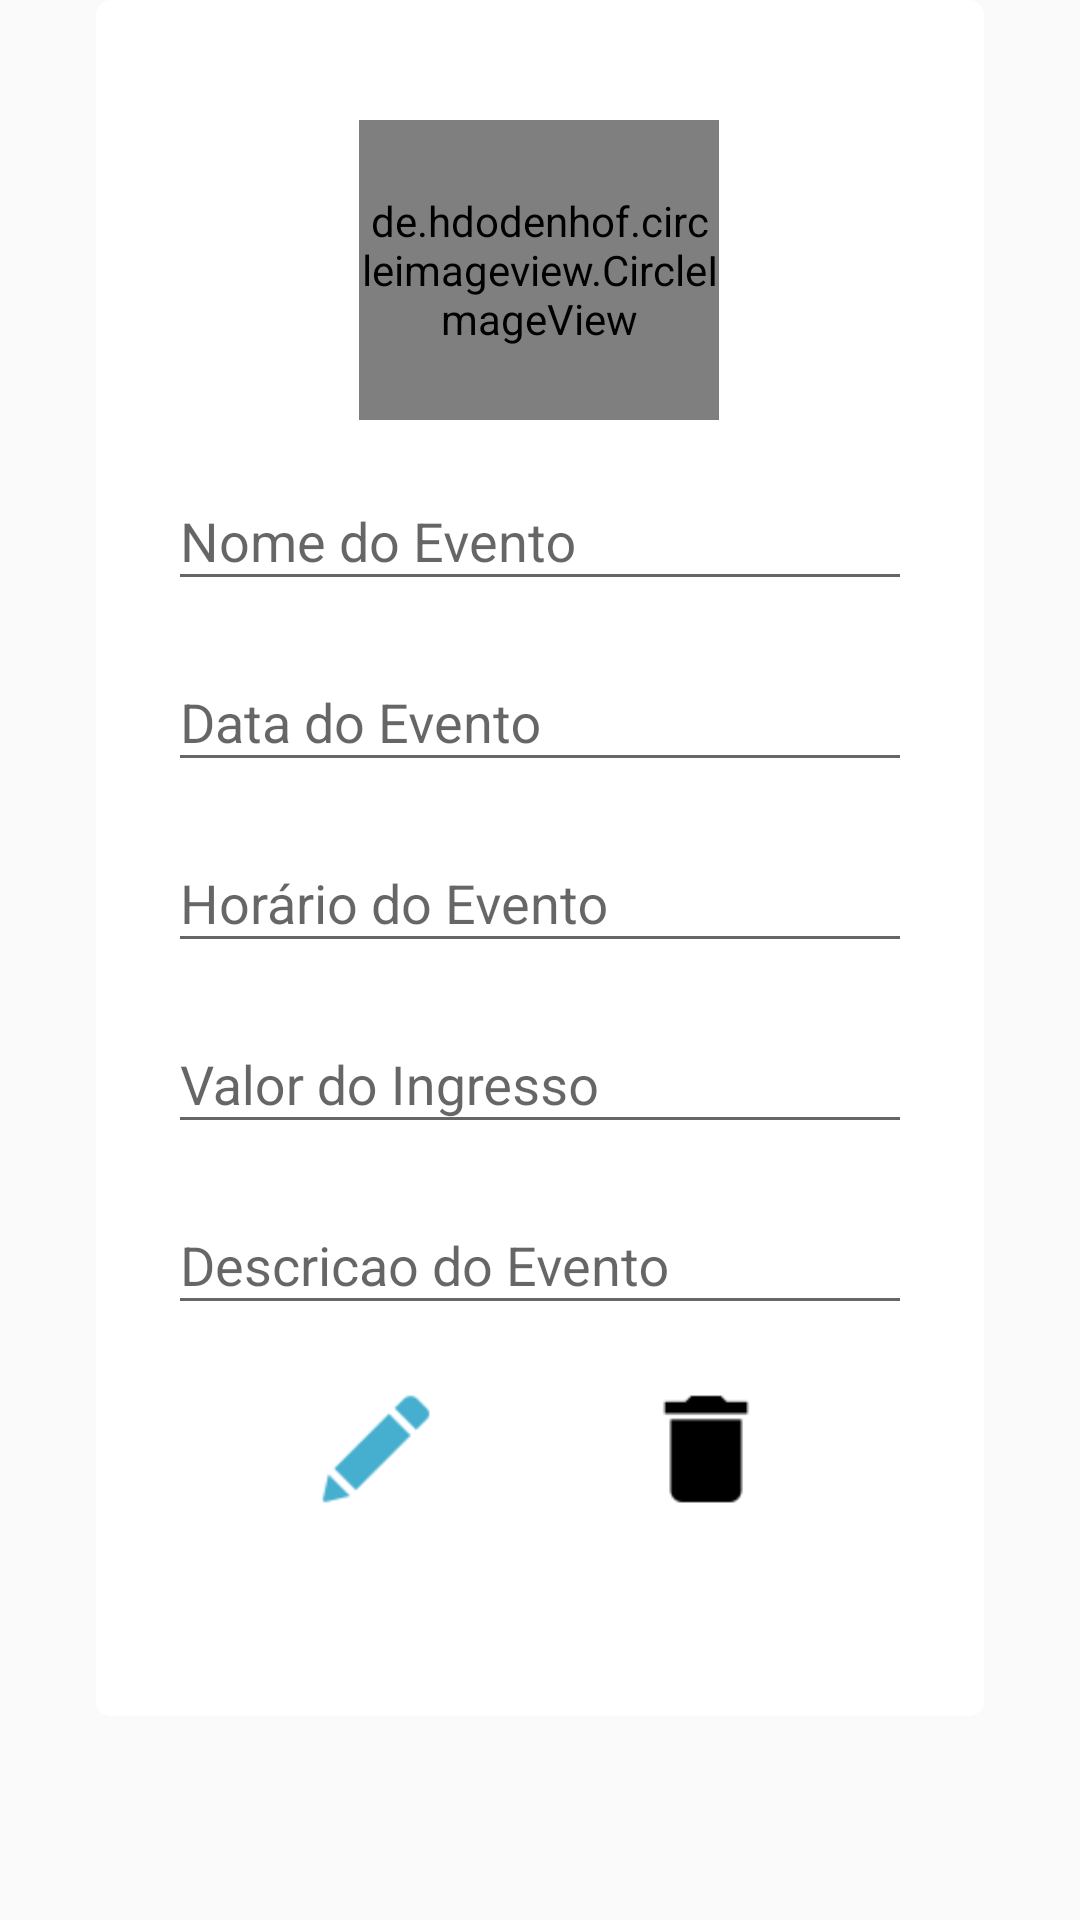

Point at icon controls on the screen. Image size 1080×1920, points as (x,y).
delete event: (706,1449)
edit event: (376,1449)
